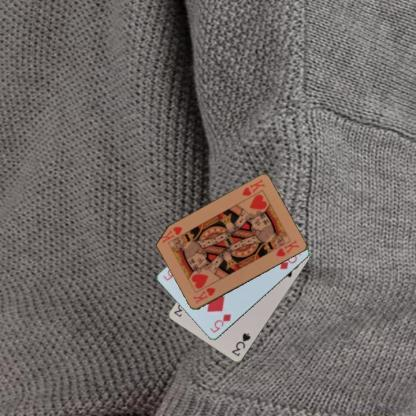3s: (229, 330, 252, 358)
5d: (208, 311, 232, 334)
Kh: (239, 176, 266, 198), (190, 285, 216, 305)
